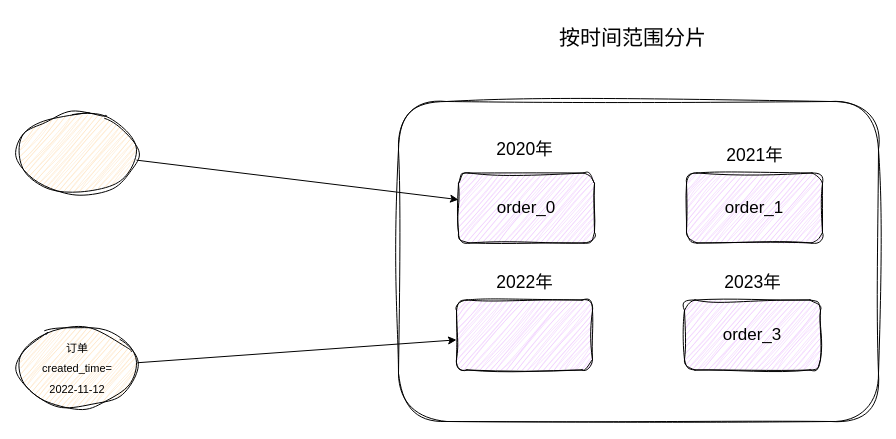
Some shapes in this 896 by 439 pixel diagram are drawn without their labels. The shapes that lost their labels are listed below. From the top down, each one's box as (x1, y1, x2, y2) in pixels, then its label:
(16, 112, 138, 193): 订单 created_time= 2020-01-01
(456, 299, 592, 370): order_2
